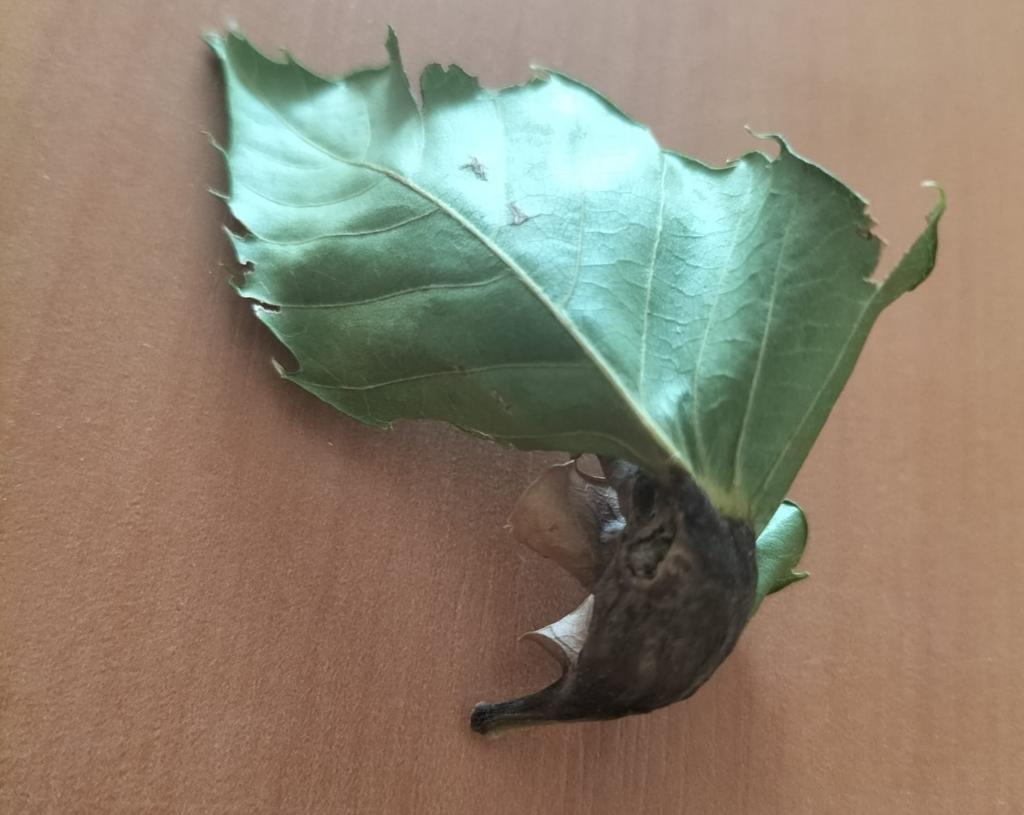galarisi: (509, 425, 781, 772)
